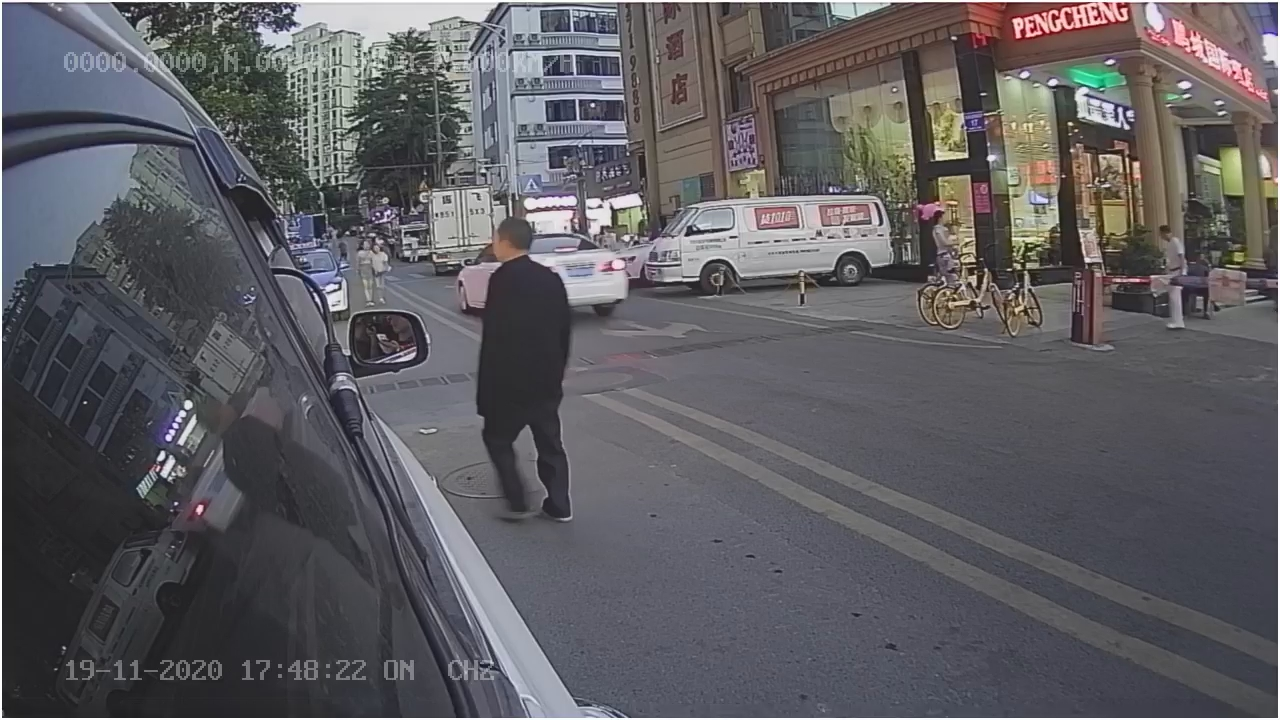person: (465, 213, 584, 523)
